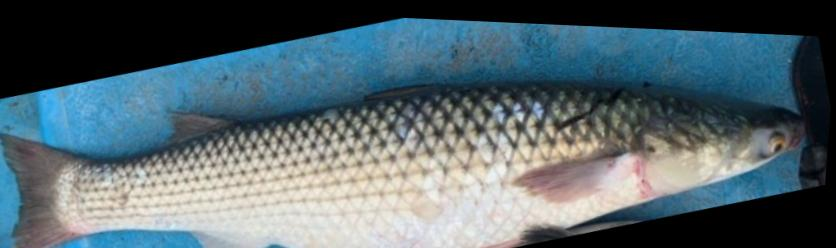fish: (2, 76, 806, 248)
